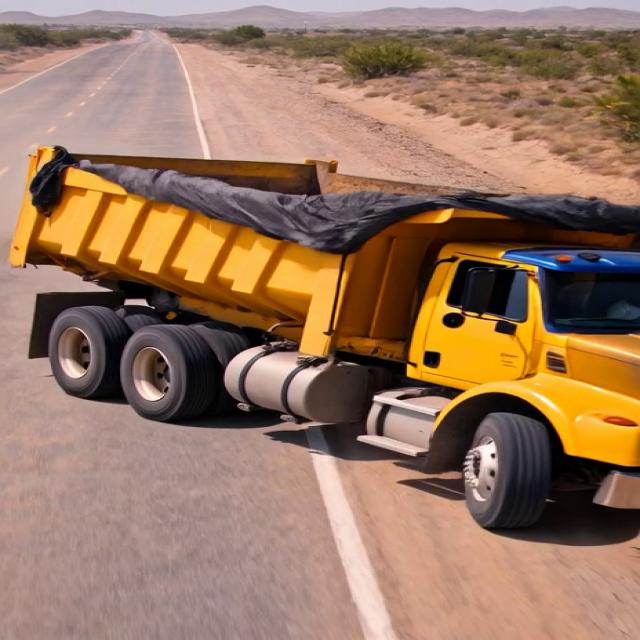trailer: (32, 134, 631, 243)
truck: (9, 113, 632, 537)
